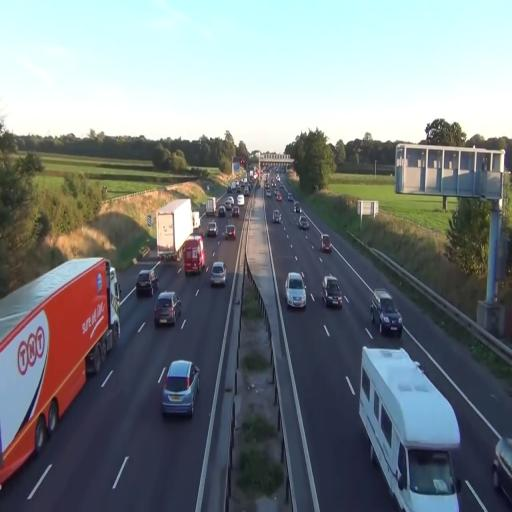vehicle: (0, 256, 122, 492), (358, 343, 462, 510), (159, 358, 200, 418), (156, 198, 193, 264), (156, 198, 193, 262), (370, 291, 402, 336), (492, 434, 512, 504), (154, 290, 180, 329), (286, 271, 306, 310), (322, 276, 344, 310), (136, 268, 156, 299), (200, 214, 218, 238), (210, 261, 226, 287), (320, 234, 331, 252), (299, 214, 309, 231), (273, 210, 282, 224)
